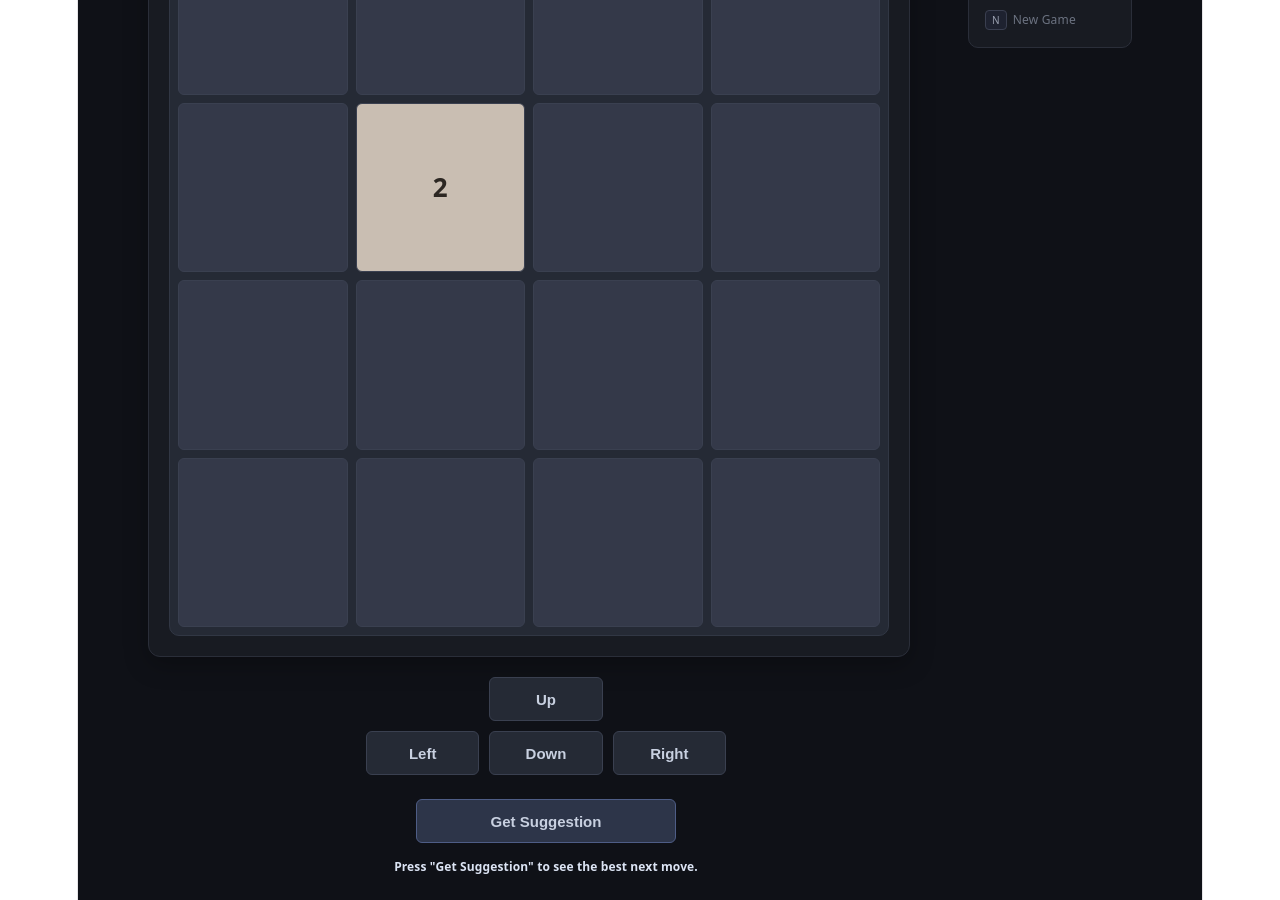
Test: AI suggestion — model load failure shows error in UI › displays the error message in the controls hint when suggestAiMove rejects
(page scrolled)
Click the button "Get Suggestion" at (546, 821), box [416,799,676,843]
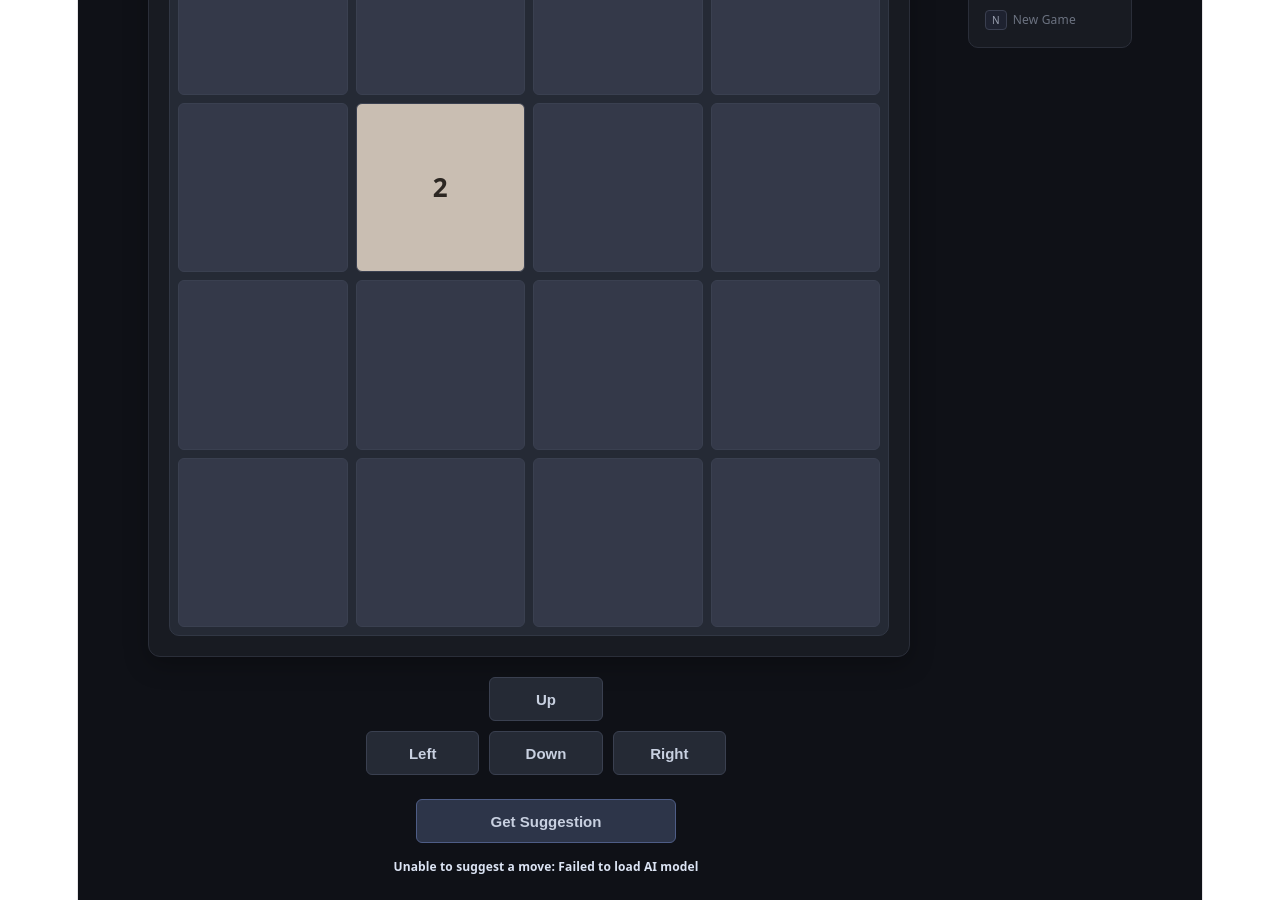
Now the text "Unable to suggest a move: Failed to load AI model" is shown, box [394,858,698,875]
